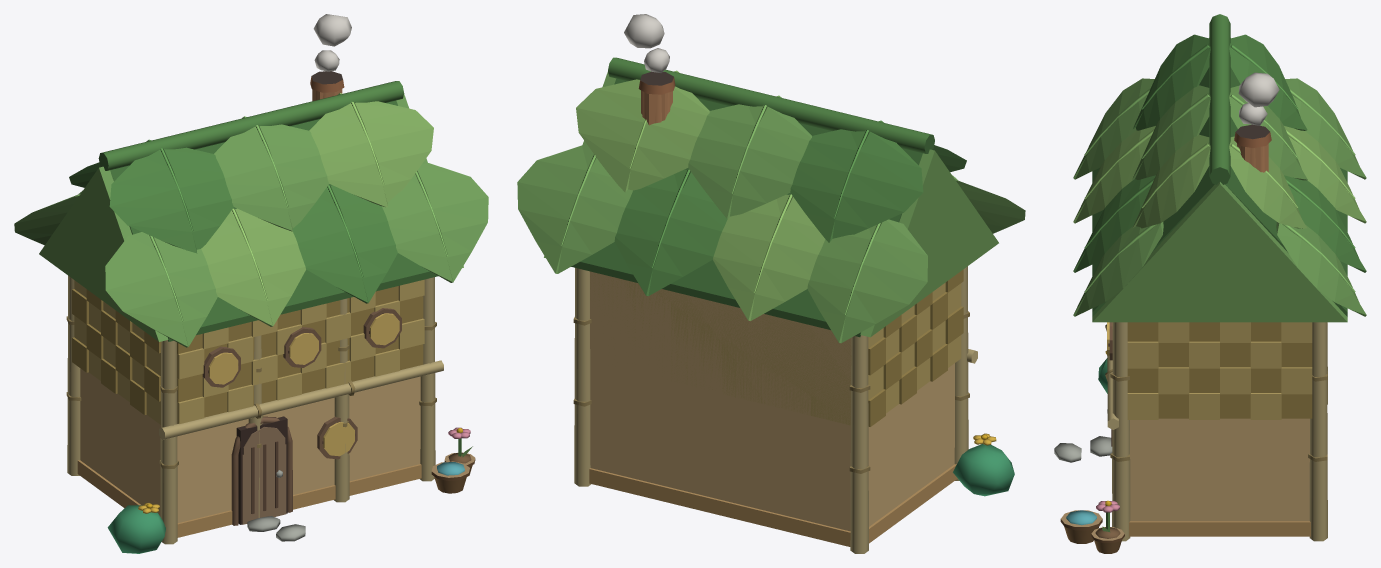
File: house_timber.glb
3 views of the same model, side by side, from view 1: azimuth 30°, elevation 25°; view 2: azimuth 150°, elevation 25°; view 3: azimuth 270°, elevation 25° (orthographic). The views are drawn at different scales.
Visible parts, largest first — view 1: body_nl, body, body__far, body_nh; view 2: body_nl, body, body__far, body_nh; view 3: body, body_nl, body__far, body_nh.
Boxes of the visible parts, x1,y1,x2,y2 form: body_nl: (14,14,488,553); body: (66,71,475,544); body__far: (39,89,463,524); body_nh: (79,93,472,457); body_nl: (517,14,1025,496); body: (573,71,977,553); body__far: (544,72,998,530); body_nh: (561,70,957,315); body: (1054,124,1327,553); body_nl: (1073,14,1366,512); body__far: (1092,38,1347,521); body_nh: (1084,44,1355,532).
Size of the model in its own units: 3.57 by 3.83 by 2.37.
